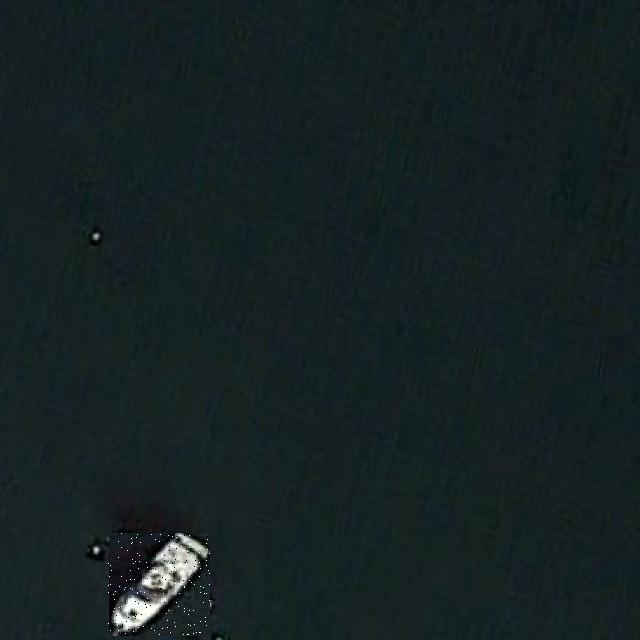boat: (108, 534, 210, 636)
